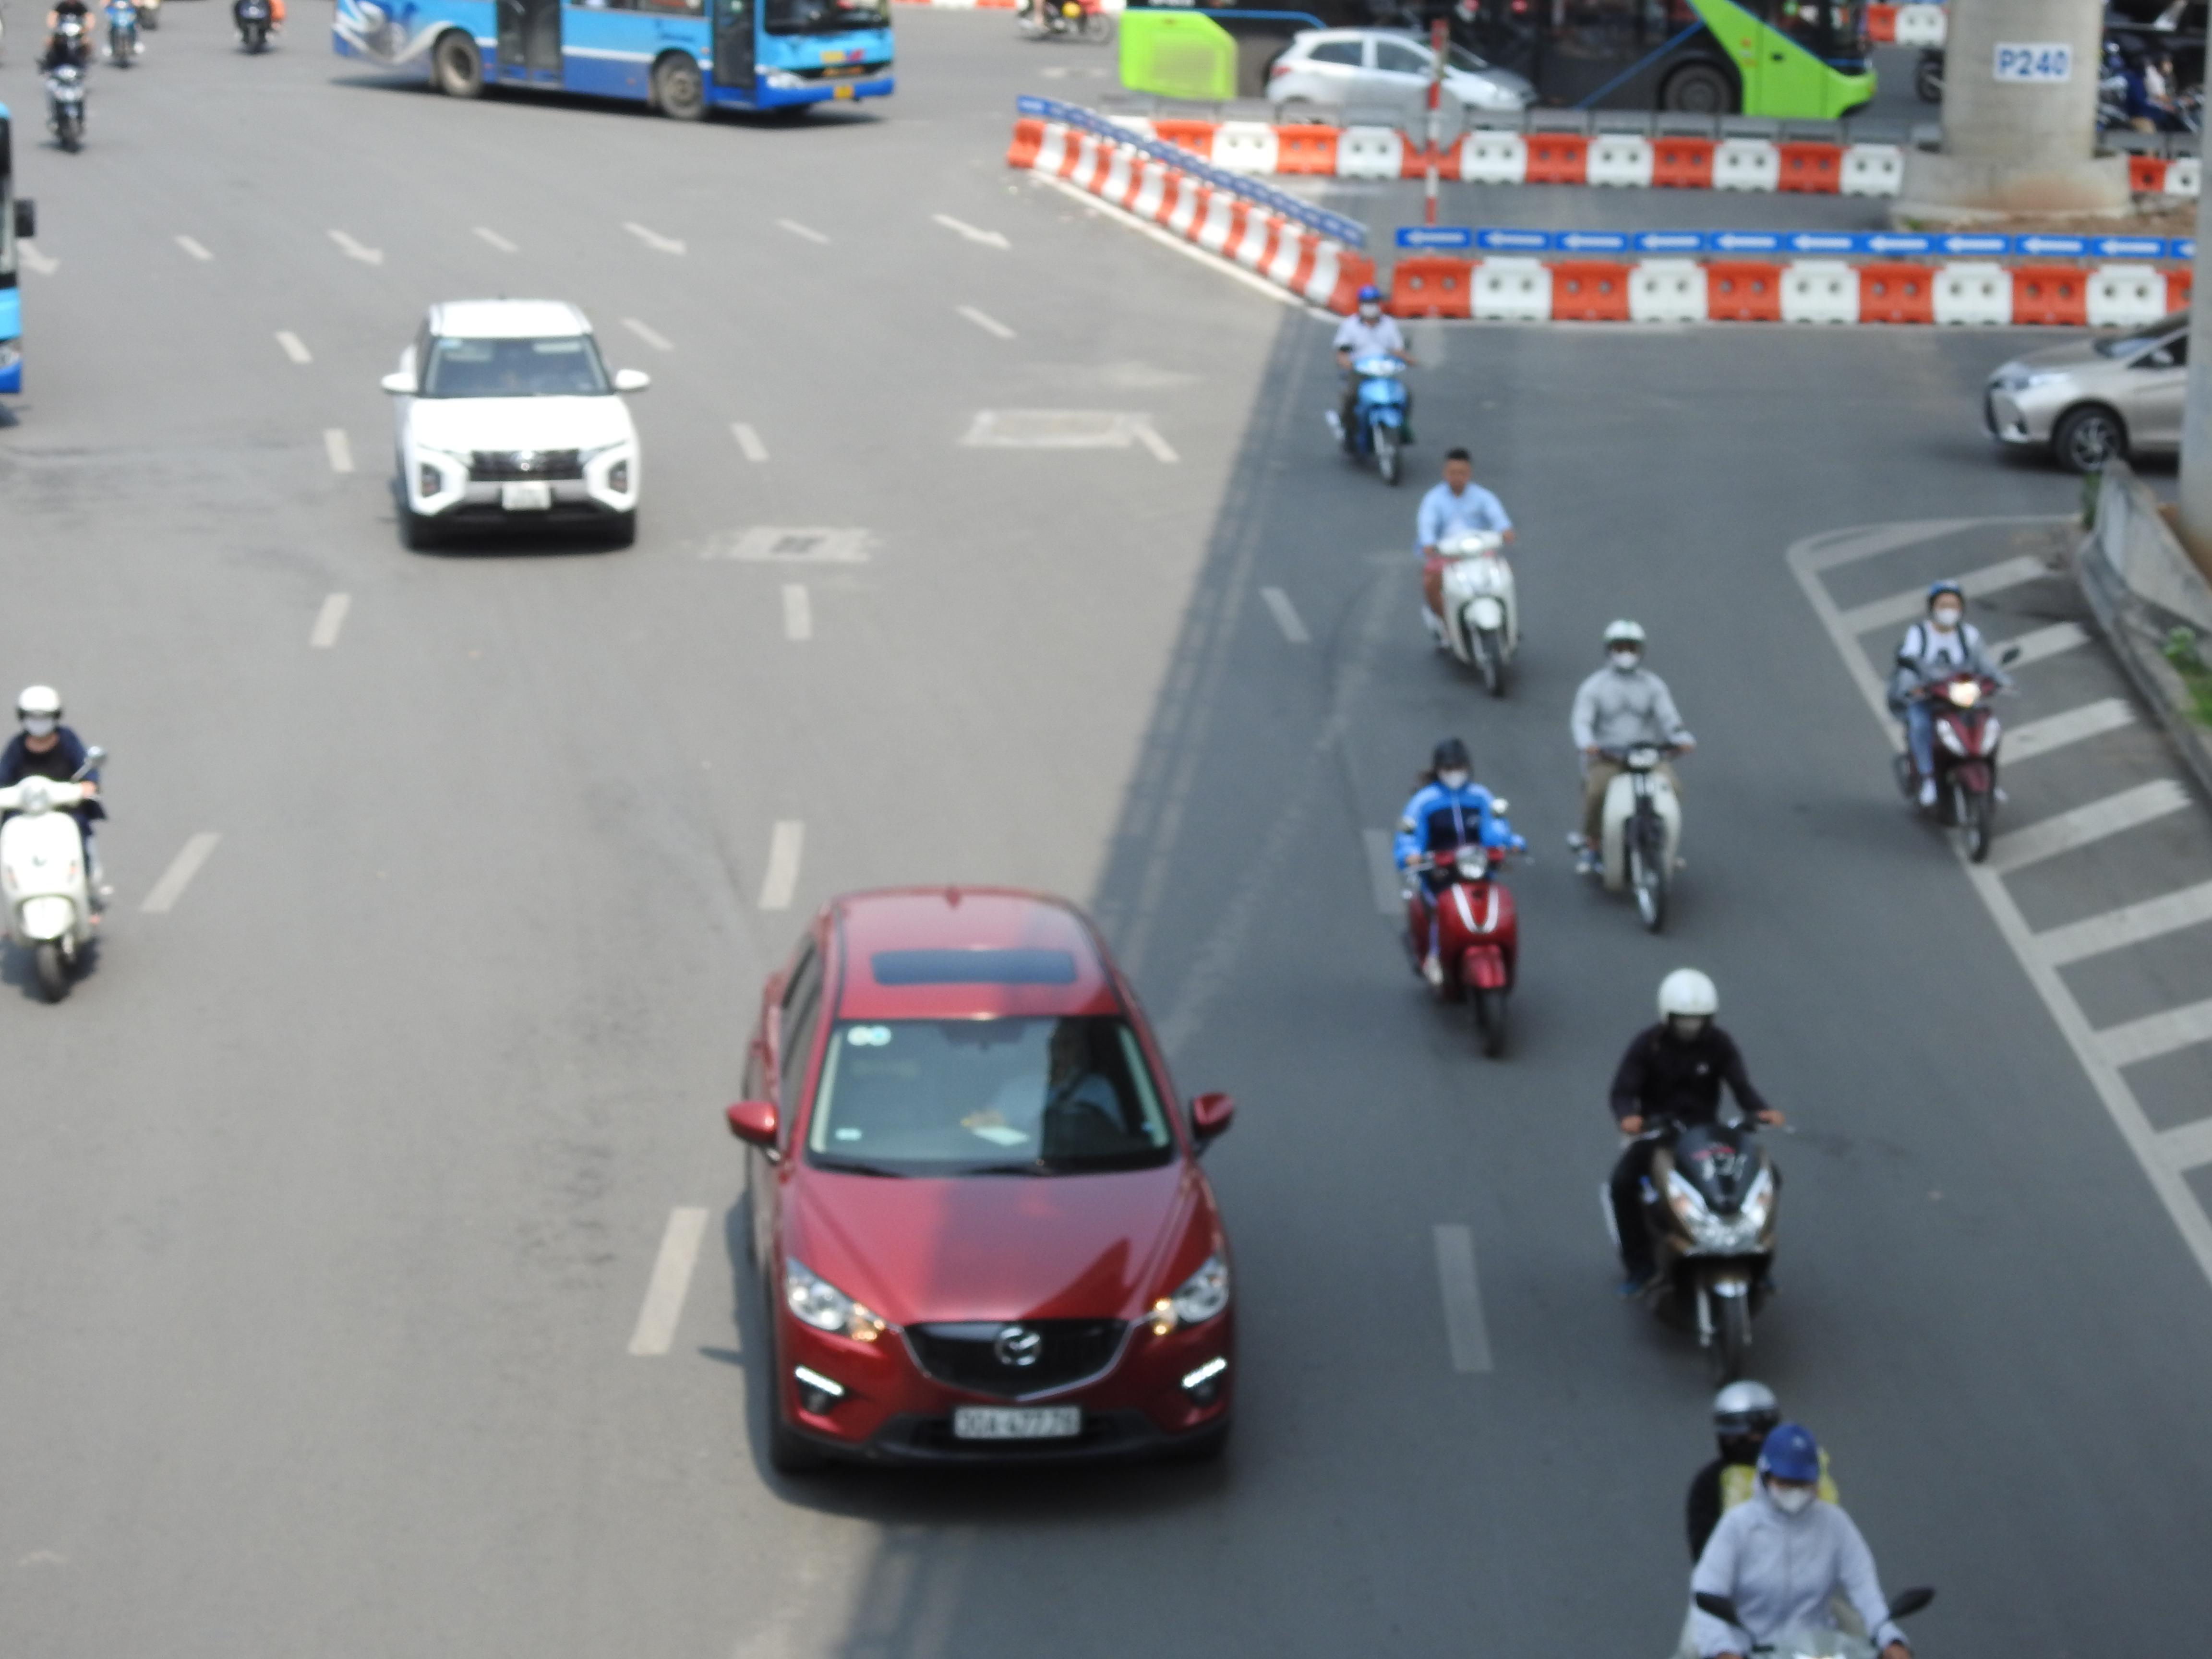BSD: (953, 1405, 1082, 1439)
bus: (329, 0, 899, 122)
car: (719, 882, 1244, 1481), (378, 298, 651, 552), (1982, 321, 2191, 476), (1263, 26, 1538, 129)
motorbike: (1606, 967, 1785, 1387), (1672, 1384, 1937, 1659), (1395, 735, 1527, 1061), (1568, 619, 1695, 934), (0, 683, 111, 1007), (1888, 580, 2012, 868), (1418, 446, 1524, 701), (1331, 286, 1418, 486), (37, 12, 92, 153), (1015, 0, 1108, 40), (101, 0, 145, 70), (230, 0, 282, 54)
